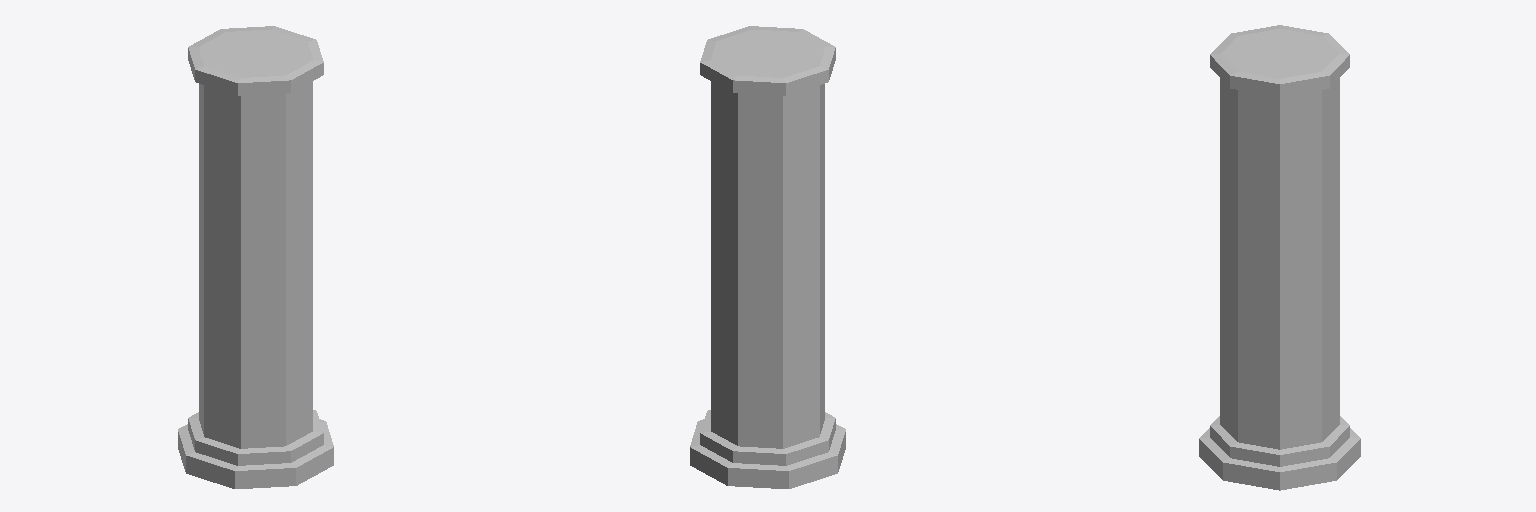
Rendered from Column_176_OBJ.obj.
3 views of the same model, side by side, from view 1: azimuth 30°, elevation 25°; view 2: azimuth 150°, elevation 25°; view 3: azimuth 270°, elevation 25° (orthographic).
Parts seen in each view (by area): view 1: Column; view 2: Column; view 3: Column.
Part boxes in pixels (bbox=[...]): Column: bbox=[178, 26, 333, 488]; Column: bbox=[690, 26, 845, 488]; Column: bbox=[1199, 25, 1360, 490].
Bounding box in the file's own units: 163 × 450 × 163.